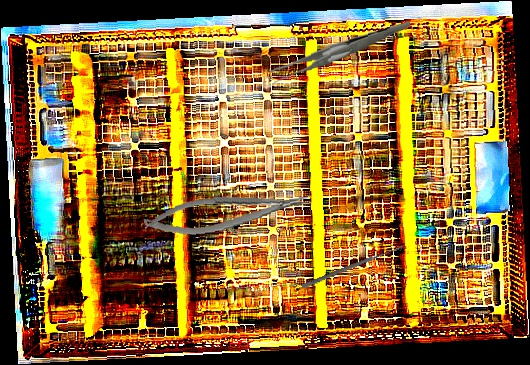Dressing Forceps: (267, 21, 413, 84)
Needle Holder: (142, 186, 314, 241)
Surgical Spoon: (301, 243, 405, 290)
